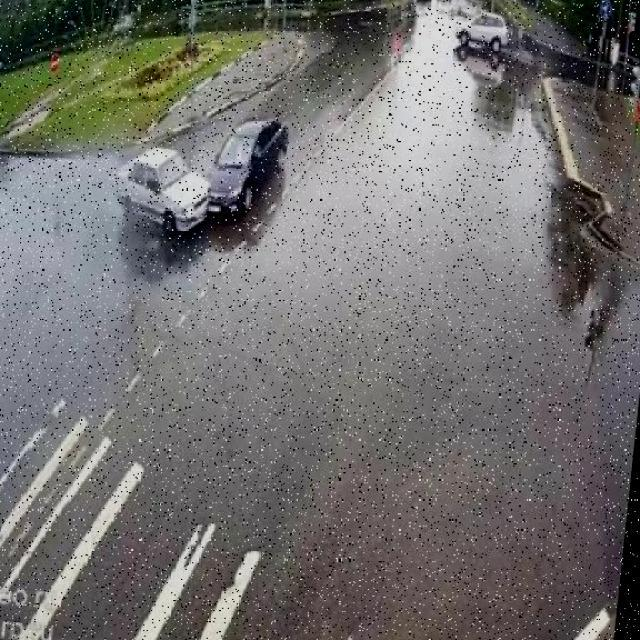accident: (148, 133, 264, 240)
